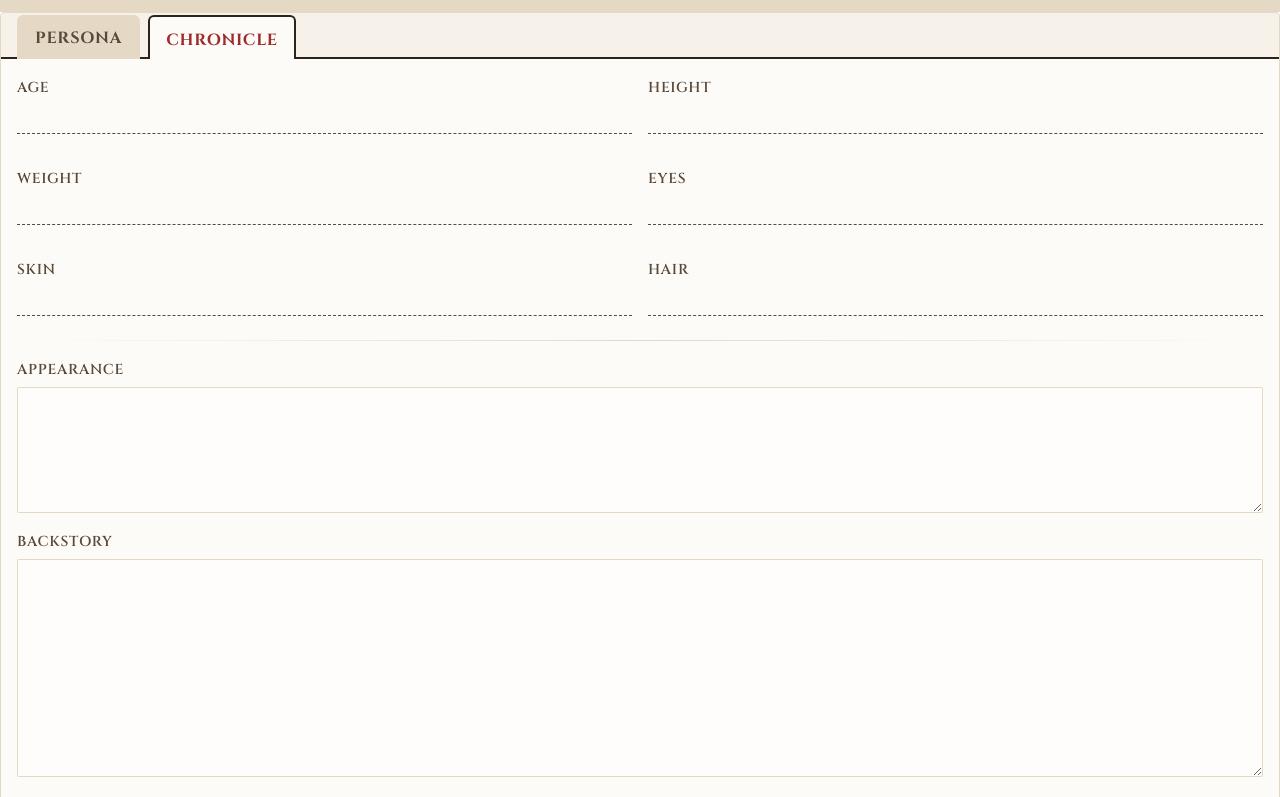
Test: RoleplayBoard › switches between Persona and Chronicle tabs
The width and height of the screenshot is (1280, 797).
Expected: the text box labelled "Backstory" is shown, [17, 560, 1263, 778]
Click the button "Persona". click: (79,37)
box: [17, 15, 140, 59]
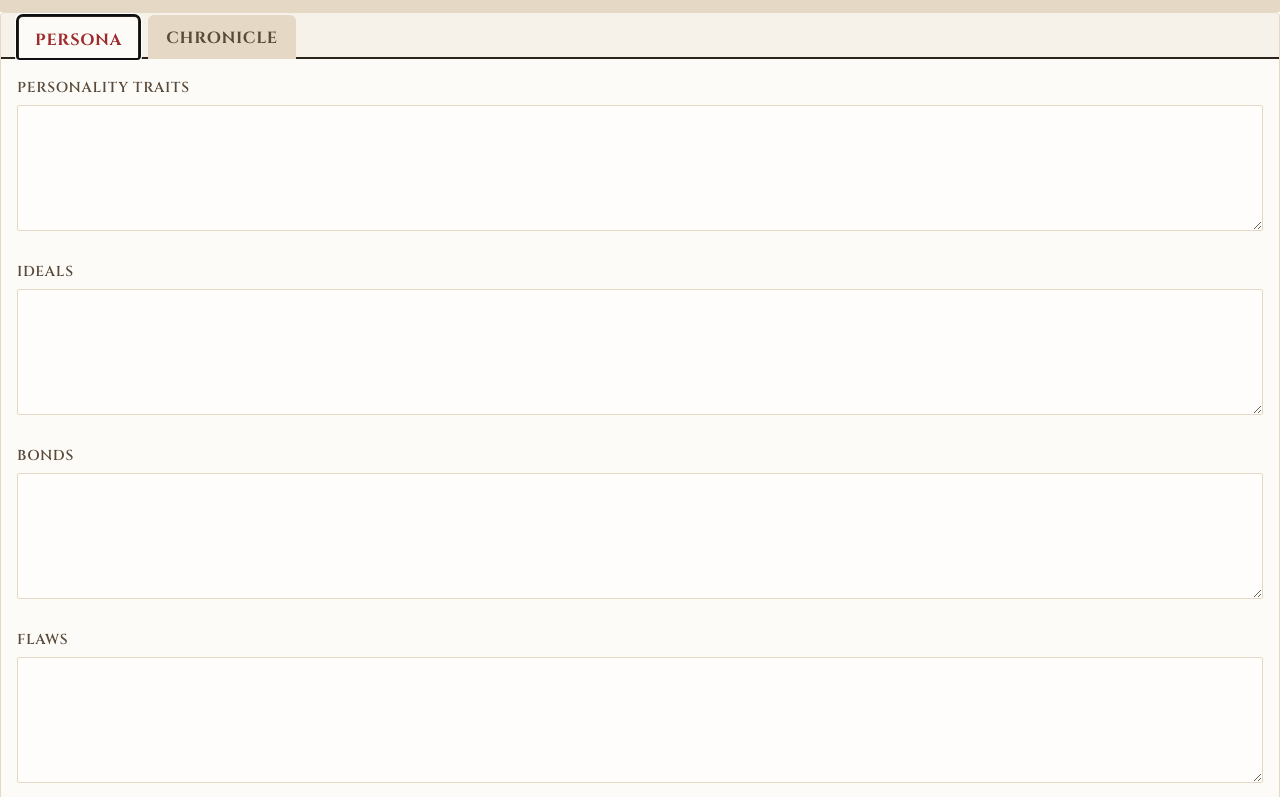
Now the text box labelled "Personality Traits" is shown, box [17, 105, 1263, 231]
Click the button "Chronicle". click: (222,37)
box: [148, 15, 296, 59]
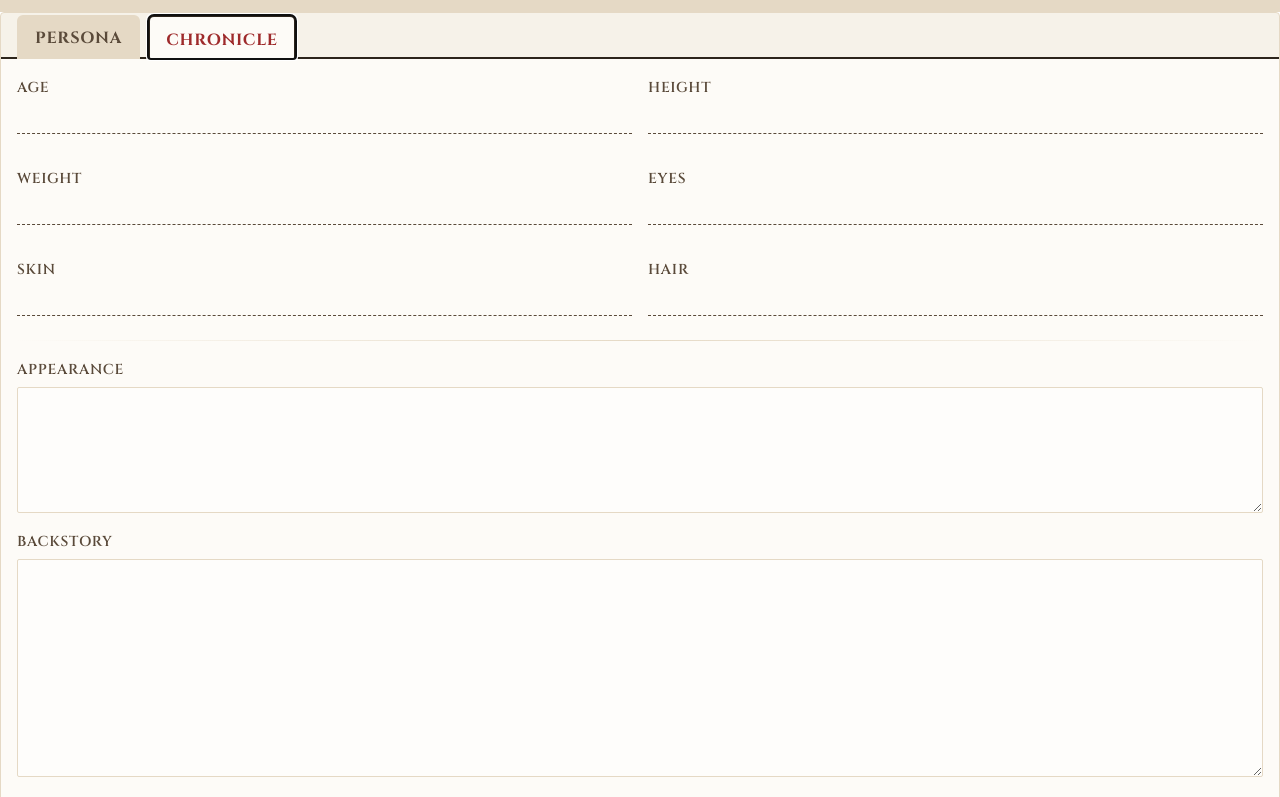
Now the text box labelled "Backstory" is shown, box [17, 560, 1263, 778]
